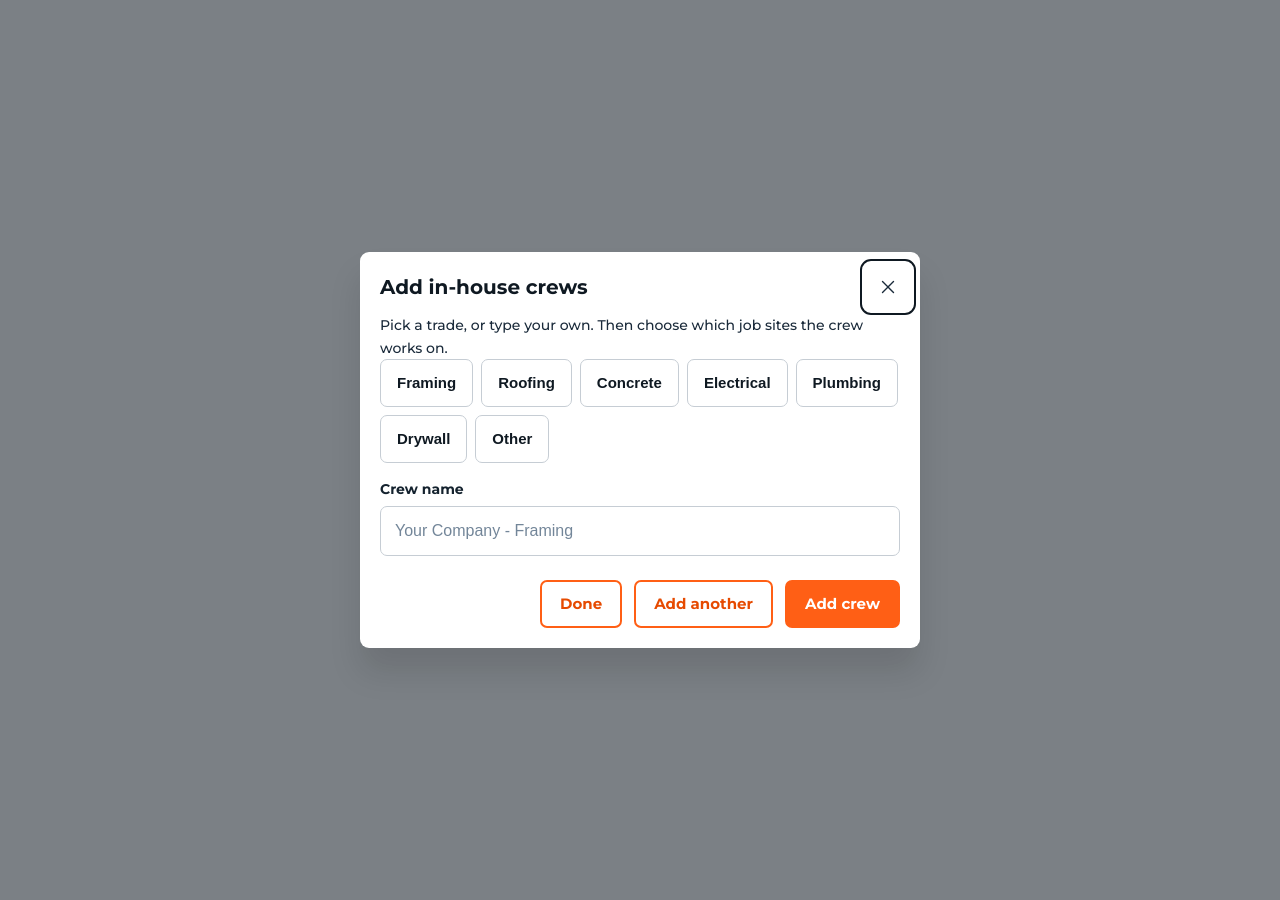
it: CrewForm › prefills the name from a trade chip
The image size is (1280, 900).
Click the button "Roofing". click: [527, 383]
box: [481, 359, 572, 407]
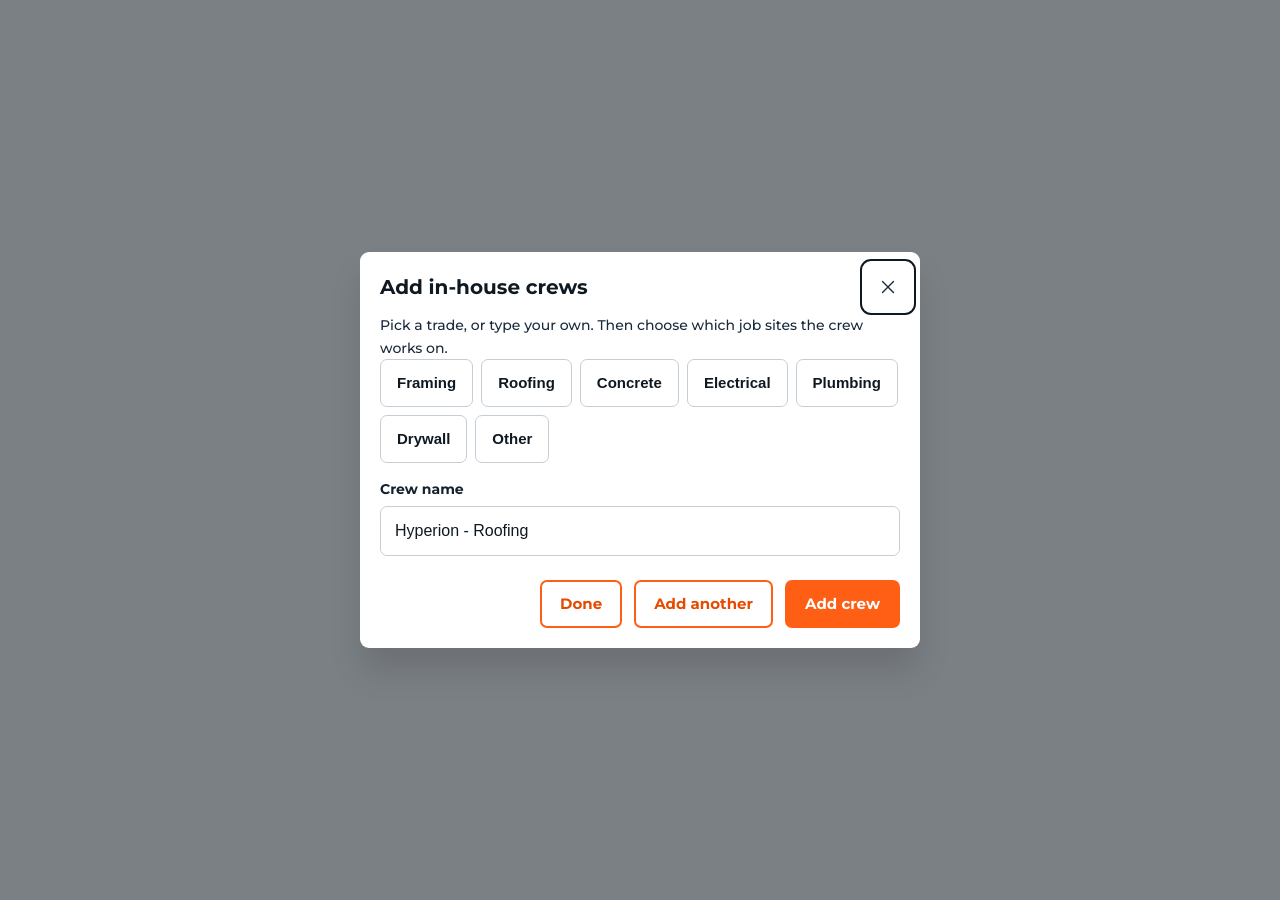
Expected: the field labelled "Crew name" holds "Hyperion - Roofing", [380, 506, 900, 556]
